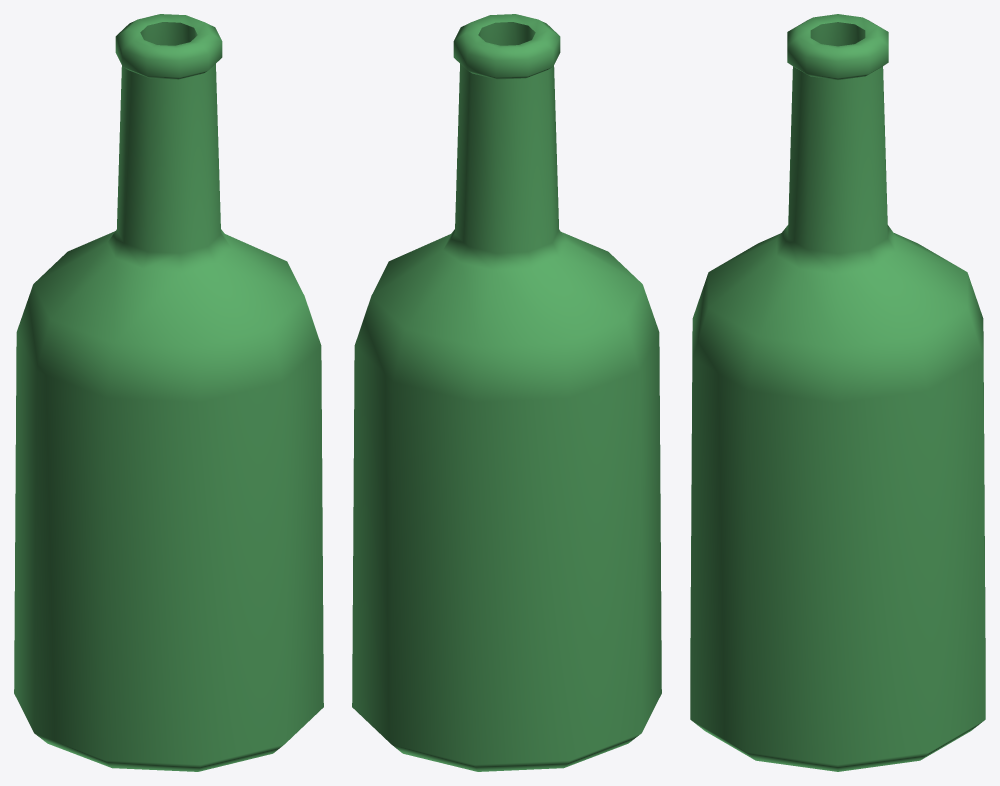
The model's file is li_bottleGlass02.fbx.
3 views of the same model, side by side, from view 1: azimuth 30°, elevation 25°; view 2: azimuth 150°, elevation 25°; view 3: azimuth 270°, elevation 25° (orthographic).
Parts seen in each view (by area): view 1: li_bottleGlass02; view 2: li_bottleGlass02; view 3: li_bottleGlass02.
Part boxes in pixels (box(x1,y1,x2,y2)): li_bottleGlass02: box(14, 14, 323, 771); li_bottleGlass02: box(352, 14, 661, 771); li_bottleGlass02: box(690, 14, 985, 771).
Bounding box in the file's own units: 11.26 × 27.24 × 10.71.
